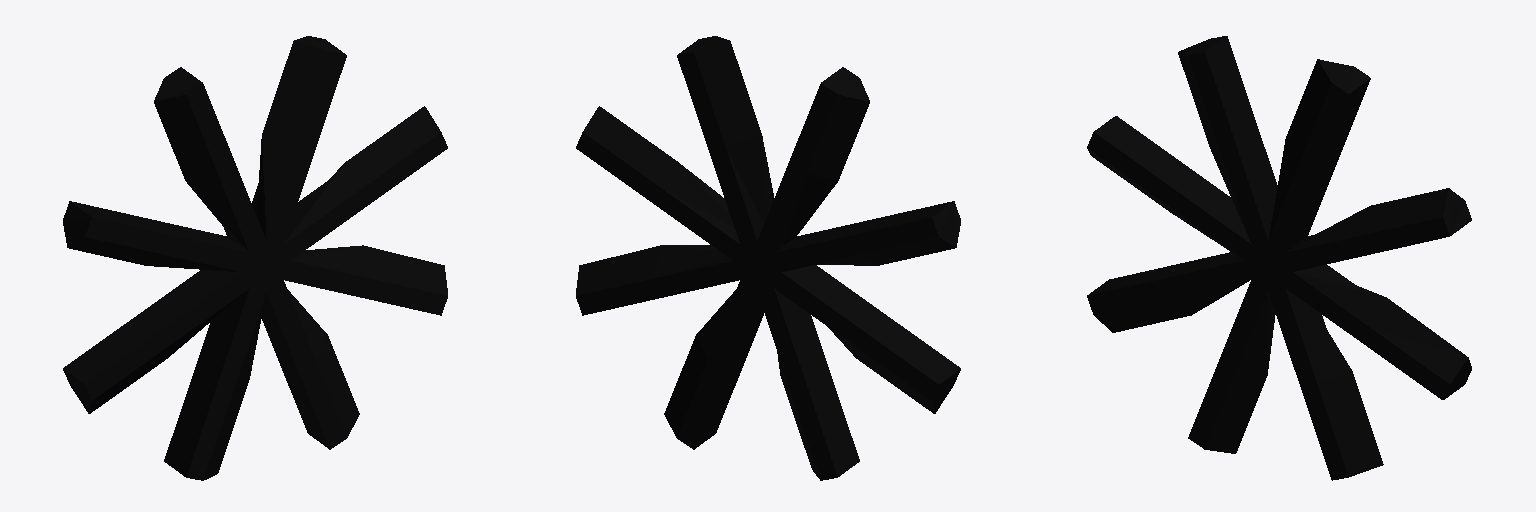
3 views of the same model, side by side, from view 1: azimuth 30°, elevation 25°; view 2: azimuth 150°, elevation 25°; view 3: azimuth 330°, elevation 25° (orthographic).
Visible parts, largest first — view 1: Cilindro.021_Cilindro.058; view 2: Cilindro.021_Cilindro.058; view 3: Cilindro.021_Cilindro.058.
Part boxes in pixels (x1,y1,x2,y2): Cilindro.021_Cilindro.058: (63,36,447,480); Cilindro.021_Cilindro.058: (576,36,960,480); Cilindro.021_Cilindro.058: (1087,36,1471,480).
Bounding box in the file's own units: 0.7798 × 0.8141 × 0.08.
Materials: 1 (1 with a texture image).